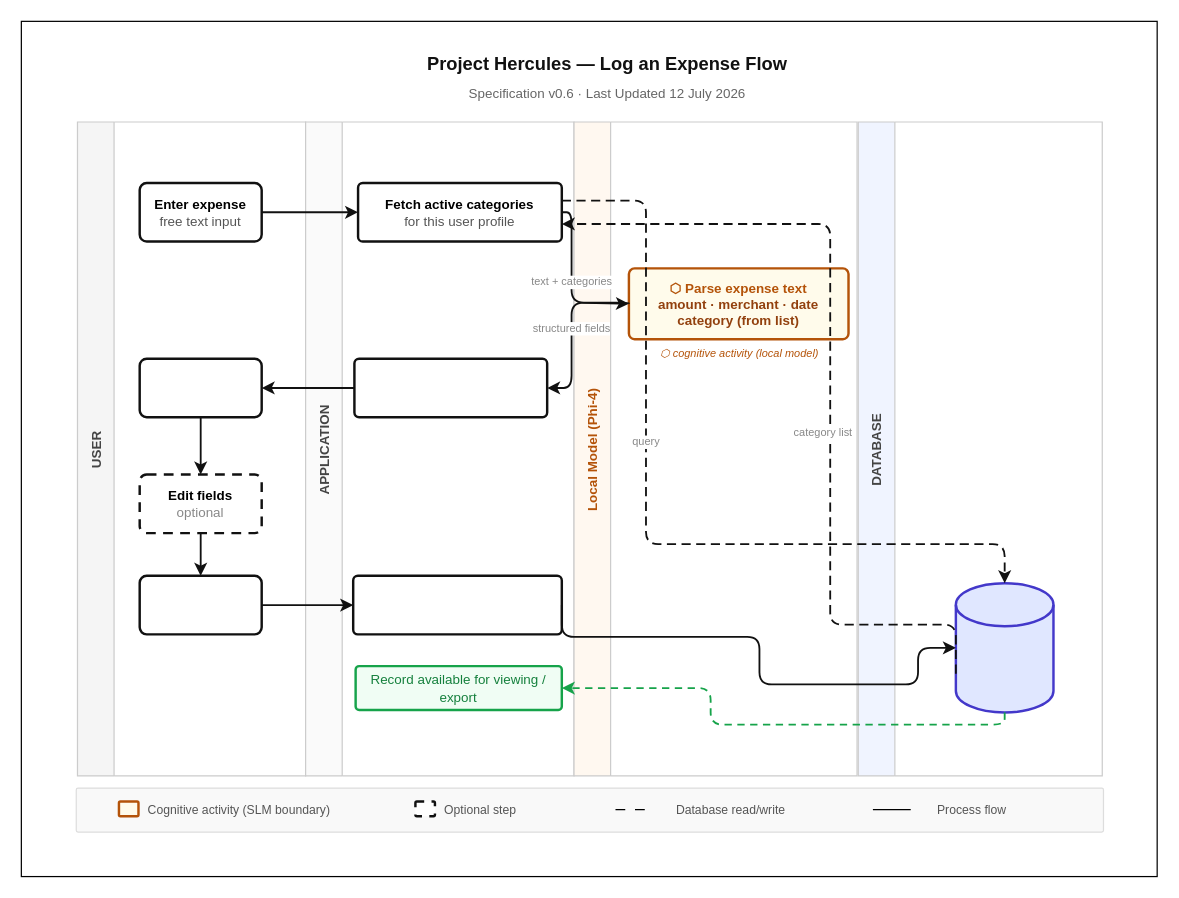
This 1179x898 diagram has some shape labels left out. Here are the shapes that lost their labels. From the top down, the centre of each, then its label:
At (x=200, y=387): "Review fields confirmation screen".
At (x=450, y=387): "Resolve category_id exact match lookup".
At (x=200, y=604): "Confirm & save user action".
At (x=456, y=604): "Write expense record structured fields + raw_input + was_edited".
At (x=1004, y=647): "Expense".
